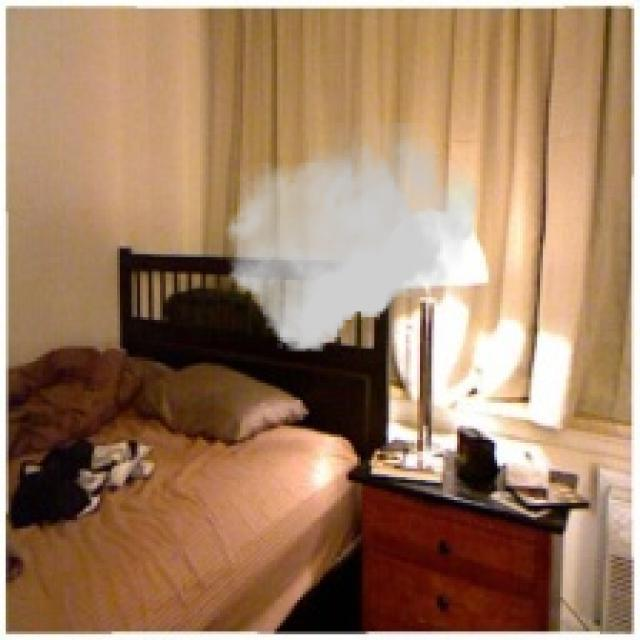Smoke: (226, 122, 477, 352)
